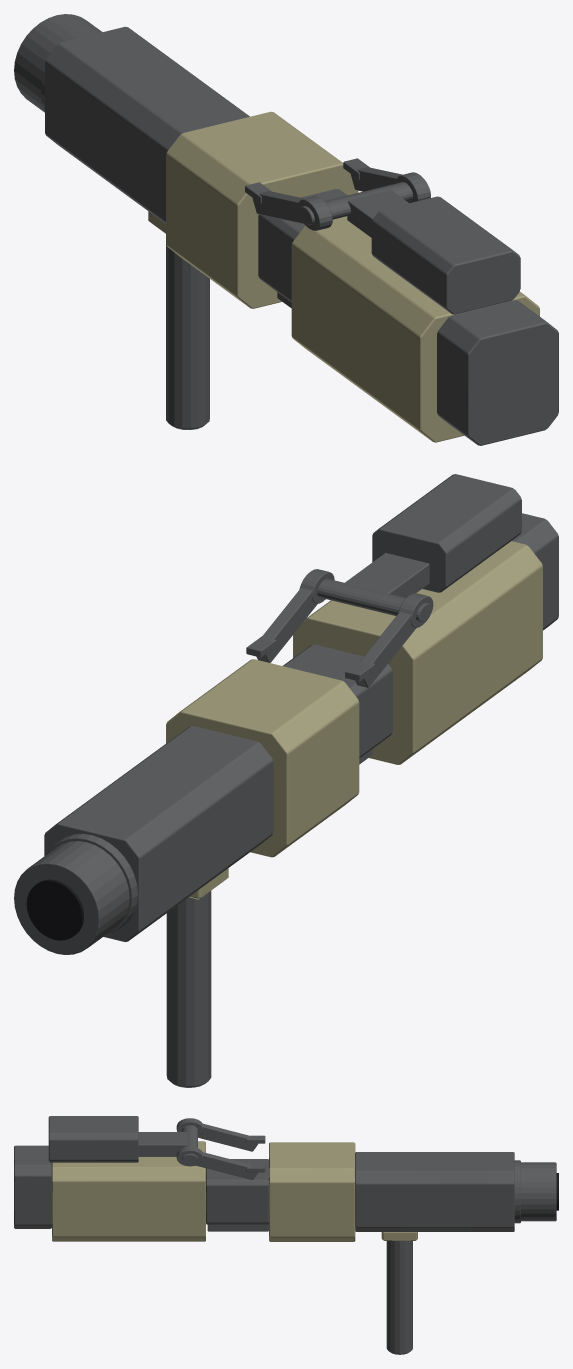
The model's file is auto_cannon.glb.
3 views of the same model, one above another, from view 1: azimuth 30°, elevation 25°; view 2: azimuth 150°, elevation 25°; view 3: azimuth 270°, elevation 25° (orthographic). The views are drawn at different scales.
Parts seen in each view (by area): view 1: RearBody, Barrel, FrontCollar, BackCap, TopBox, GripHandle, MuzzleTube, Core, CrossBar, HingePin, LinkL, LinkR (+2 smaller); view 2: Barrel, RearBody, FrontCollar, TopBox, GripHandle, MuzzleTube, Core, Bore, CrossBar, BackCap, HingePin, LinkL (+2 smaller); view 3: Barrel, RearBody, FrontCollar, TopBox, Core, BackCap, GripHandle, MuzzleTube, CrossBar, LinkL, LinkR, UnderRail (+4 smaller).
Boxes of the visible parts, box(x1,y1,x2,y2) form: RearBody: box(291, 216, 539, 442); Barrel: box(45, 26, 249, 223); FrontCollar: box(166, 111, 358, 308); BackCap: box(437, 300, 558, 445); TopBox: box(371, 196, 520, 314); GripHandle: box(166, 244, 209, 429); MuzzleTube: box(14, 14, 102, 112); Core: box(258, 189, 347, 301); CrossBar: box(347, 190, 408, 237); HingePin: box(299, 182, 412, 224); LinkL: box(252, 191, 304, 223); LinkR: box(350, 167, 402, 191); Barrel: box(44, 725, 273, 941); RearBody: box(293, 541, 542, 764); FrontCollar: box(166, 659, 359, 857); TopBox: box(372, 474, 521, 592); GripHandle: box(166, 891, 211, 1087); MuzzleTube: box(14, 841, 129, 954); Core: box(283, 644, 392, 758); Bore: box(26, 879, 83, 940); CrossBar: box(344, 553, 429, 597); BackCap: box(512, 513, 558, 630); HingePin: box(317, 579, 431, 621); LinkL: box(355, 612, 416, 687); Barrel: box(355, 1152, 514, 1231); RearBody: box(52, 1141, 205, 1241); FrontCollar: box(269, 1142, 355, 1241); TopBox: box(48, 1116, 138, 1162); Core: box(206, 1159, 268, 1224); BackCap: box(14, 1145, 51, 1228); GripHandle: box(386, 1241, 412, 1354); MuzzleTube: box(521, 1162, 556, 1221); CrossBar: box(138, 1132, 187, 1156); LinkL: box(198, 1123, 257, 1151); LinkR: box(196, 1152, 257, 1179); UnderRail: box(207, 1224, 268, 1231).
Bounding box in the file's own units: 0.6943 × 2.07 × 4.52.
